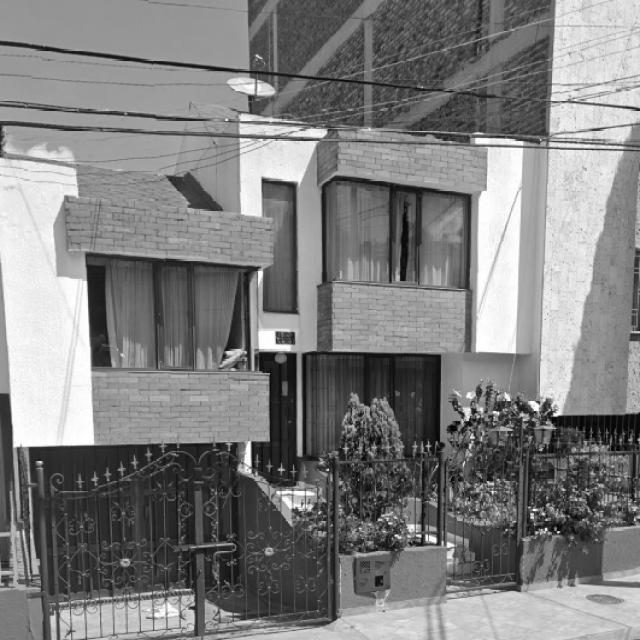Fachada: (1, 158, 328, 637), (177, 104, 546, 462)
